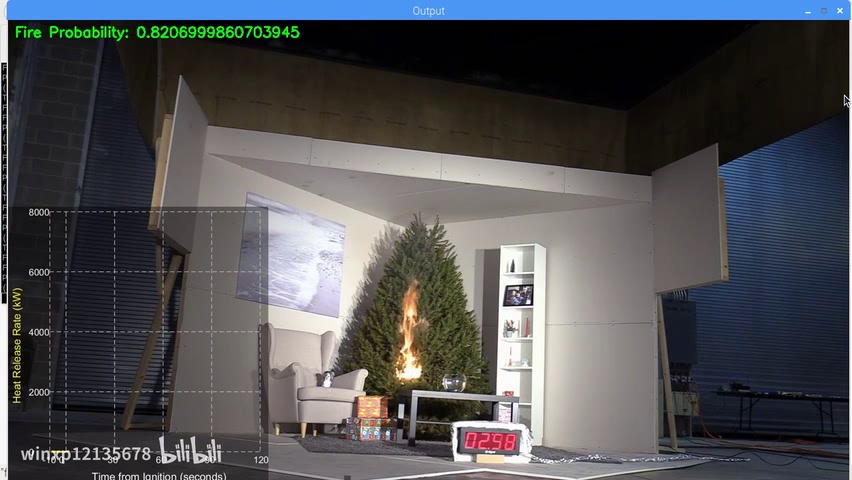fire: (394, 276, 427, 393)
